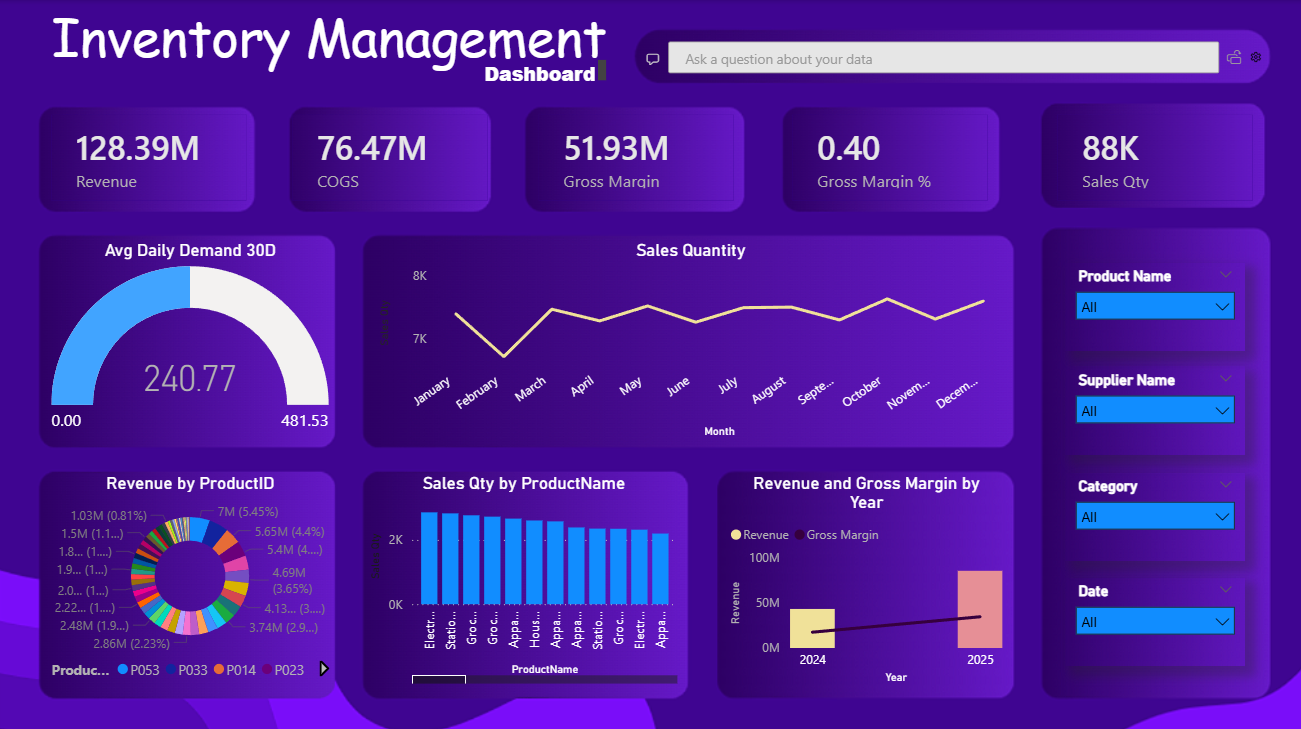

What the dashboard file says about the page in this screenshot:
{"tool":"powerbi","page":{"name":"Page 2","canvas":[1280,720],"ordinal":1},"visuals":[{"type":"textbox","title":"Inventory Management ","box":[46.6,0,563.2,87.1],"z":0},{"type":"textbox","box":[471.2,54,130.1,33.1],"z":1000},{"type":"slicer","fields":{"Values":["Products.ProductName"]},"box":[1046.6,257.7,176.7,87.1],"z":2000},{"type":"slicer","fields":{"Values":["Suppliers.SupplierName"]},"box":[1046.6,359.5,176.7,87.1],"z":3000},{"type":"slicer","fields":{"Values":["Products.Category"]},"box":[1046.6,463.8,176.7,87.1],"z":4000},{"type":"slicer","fields":{"Values":["Calendar.Date"]},"box":[1046.6,566.9,176.7,87.1],"z":5000},{"type":"gauge","title":"Avg Daily Demand 30D ","fields":{"Y":["Products.Avg Daily Demand 30D :"]},"box":[46.6,235.6,282.2,198.8],"z":6000},{"type":"lineChart","title":"Sales Quantity","fields":{"Category":["Calendar.Date.Variation.Date Hierarchy.Month"],"Y":["Transactions.Sales Qty"]},"box":[368.1,235.6,622.1,198.8],"z":7000},{"type":"clusteredColumnChart","fields":{"Category":["Products.ProductName"],"Y":["Transactions.Sales Qty"]},"box":[359.5,463.8,311.7,212.3],"z":8000},{"type":"lineClusteredColumnComboChart","fields":{"Category":["Calendar.Year"],"Y":["Transactions.Revenue"],"Y2":["Transactions.Gross Margin"]},"box":[712.9,463.8,277.3,212.3],"z":9000},{"type":"donutChart","fields":{"Category":["Products.ProductID"],"Y":["Transactions.Revenue"]},"box":[46.6,463.8,282.2,212.3],"z":10000},{"type":"cardVisual","fields":{"Data":["Transactions.Revenue"]},"box":[46.6,108,201.2,94.5],"z":11000},{"type":"cardVisual","fields":{"Data":["Transactions.COGS"]},"box":[283.4,108,201.2,94.5],"z":11001},{"type":"cardVisual","fields":{"Data":["Transactions.Gross Margin"]},"box":[525.2,108,201.2,94.5],"z":11002},{"type":"cardVisual","fields":{"Data":["Transactions.Gross Margin %"]},"box":[774.2,108,201.2,94.5],"z":11003},{"type":"cardVisual","fields":{"Data":["Transactions.Sales Qty"]},"box":[1034.4,108,201.2,94.5],"z":11004},{"type":"qnaVisual","box":[625.8,16,623.3,76.1],"z":11005}]}

Visuals, with their boxes in screenshot pixels (x1, y1, x2, y2), scaled from the page's 1280x720 canvas onto the 1301x729 screenshot:
"Inventory Management " textbox: crop(47, 0, 620, 88)
textbox: crop(479, 55, 611, 88)
slicer - Products.ProductName: crop(1064, 261, 1243, 349)
slicer - Suppliers.SupplierName: crop(1064, 364, 1243, 452)
slicer - Products.Category: crop(1064, 470, 1243, 558)
slicer - Calendar.Date: crop(1064, 574, 1243, 662)
"Avg Daily Demand 30D " gauge: crop(47, 239, 334, 440)
"Sales Quantity" lineChart: crop(374, 239, 1006, 440)
clusteredColumnChart - Products.ProductName x Transactions.Sales Qty: crop(365, 470, 682, 685)
lineClusteredColumnComboChart - Calendar.Year x Transactions.Revenue: crop(725, 470, 1006, 685)
donutChart - Products.ProductID x Transactions.Revenue: crop(47, 470, 334, 685)
cardVisual - Transactions.Revenue: crop(47, 109, 252, 205)
cardVisual - Transactions.COGS: crop(288, 109, 493, 205)
cardVisual - Transactions.Gross Margin: crop(534, 109, 738, 205)
cardVisual - Transactions.Gross Margin %: crop(787, 109, 991, 205)
cardVisual - Transactions.Sales Qty: crop(1051, 109, 1256, 205)
qnaVisual: crop(636, 16, 1270, 93)
